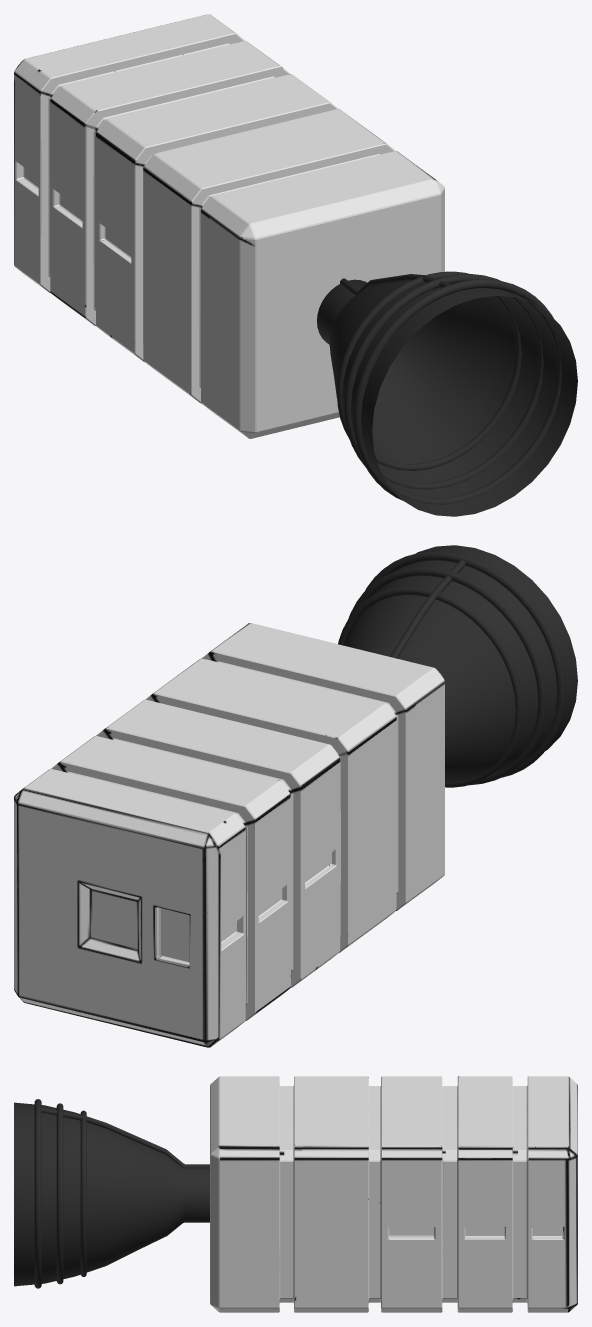
File: engine.glb
The picture shows the model from 3 angles, top to bottom: view 1: azimuth 30°, elevation 25°; view 2: azimuth 150°, elevation 25°; view 3: azimuth 270°, elevation 25°; orthographic projection. The views are drawn at different scales.
Visible parts, largest first — view 1: Cube.051; view 2: Cube.051; view 3: Cube.051.
Boxes of the visible parts, <box> form: Cube.051: <box>14,14,577,516</box>; Cube.051: <box>14,545,577,1047</box>; Cube.051: <box>14,1076,577,1312</box>.
Size of the model in its own units: 2.06 by 2.06 by 6.13.
Materials: 2 (1 with a texture image).
